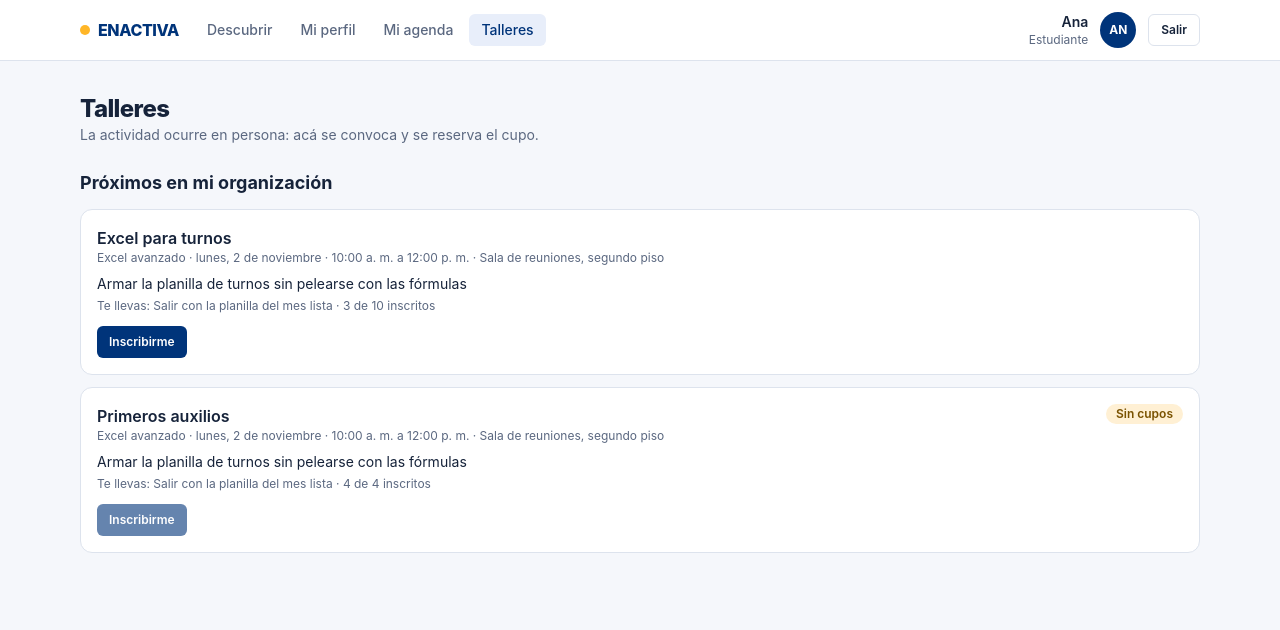
Test: Talleres › alguien se inscribe en un taller con cupo
The image size is (1280, 630).
Click the button "Inscribirme" below "Excel para turnos": click(142, 342) top-left (97, 326), bottom-right (187, 358)
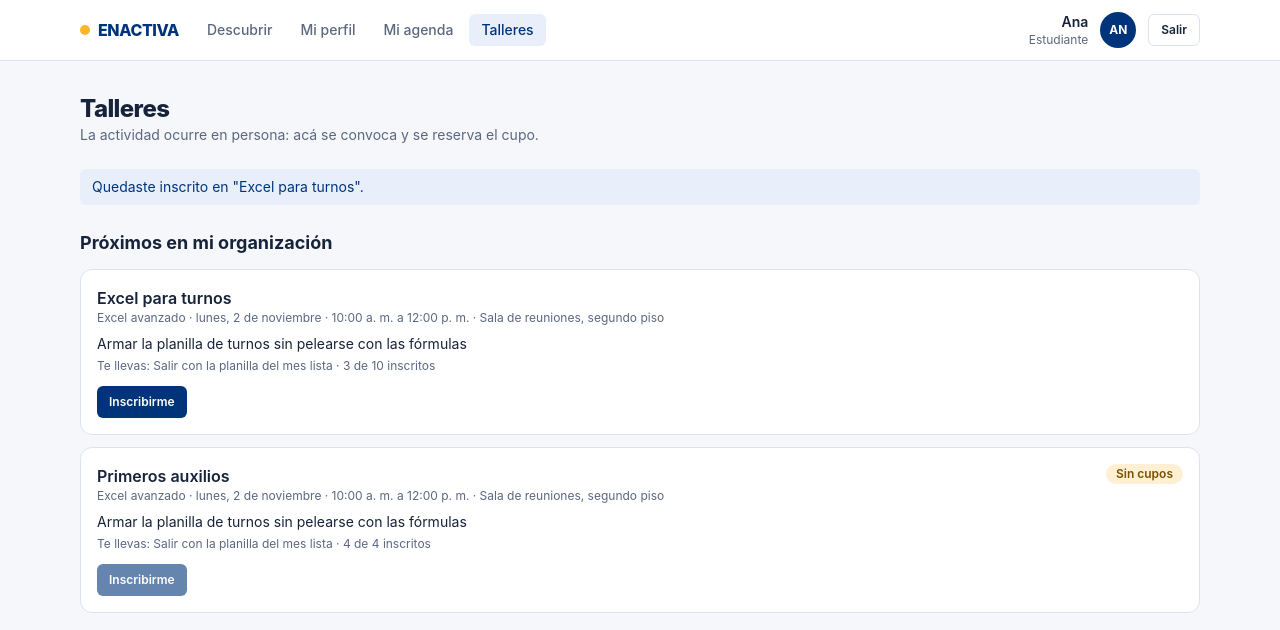
Result: the message shows "Quedaste inscrito" at top-left (92, 178), bottom-right (364, 195)
